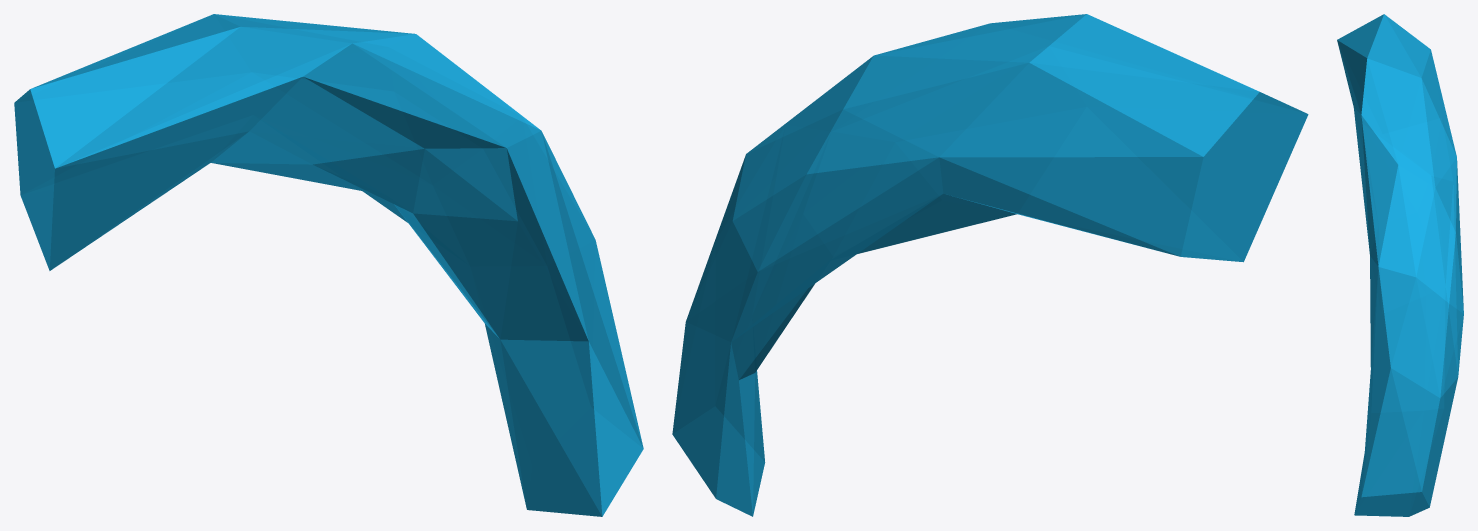
The model's file is WaterstoneParticle.fbx.
The picture shows the model from 3 angles, left to right: view 1: azimuth 30°, elevation 25°; view 2: azimuth 150°, elevation 25°; view 3: azimuth 270°, elevation 25°; orthographic projection. The views are drawn at different scales.
Visible parts, largest first — view 1: WaterstoneParticle; view 2: WaterstoneParticle; view 3: WaterstoneParticle.
Boxes of the visible parts, <box> form: WaterstoneParticle: <box>14,14,643,516</box>; WaterstoneParticle: <box>672,14,1308,516</box>; WaterstoneParticle: <box>1337,14,1463,516</box>.
Size of the model in its own units: 1.09 by 1 by 0.3185.
